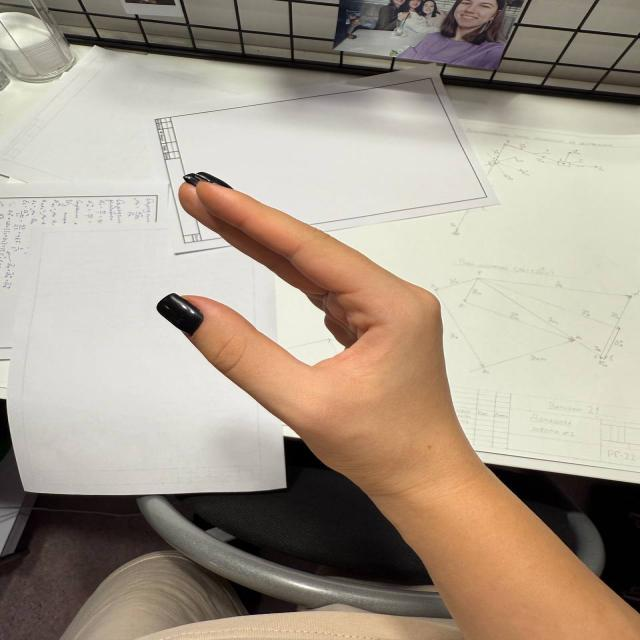s: (116, 157, 502, 468)
